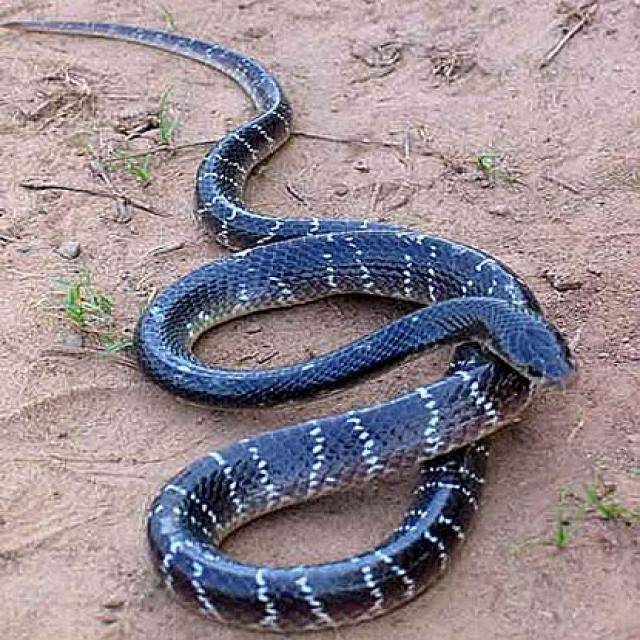Snake: (0, 0, 580, 637)
